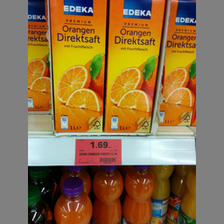juice: (105, 1, 165, 133), (49, 1, 106, 132)
